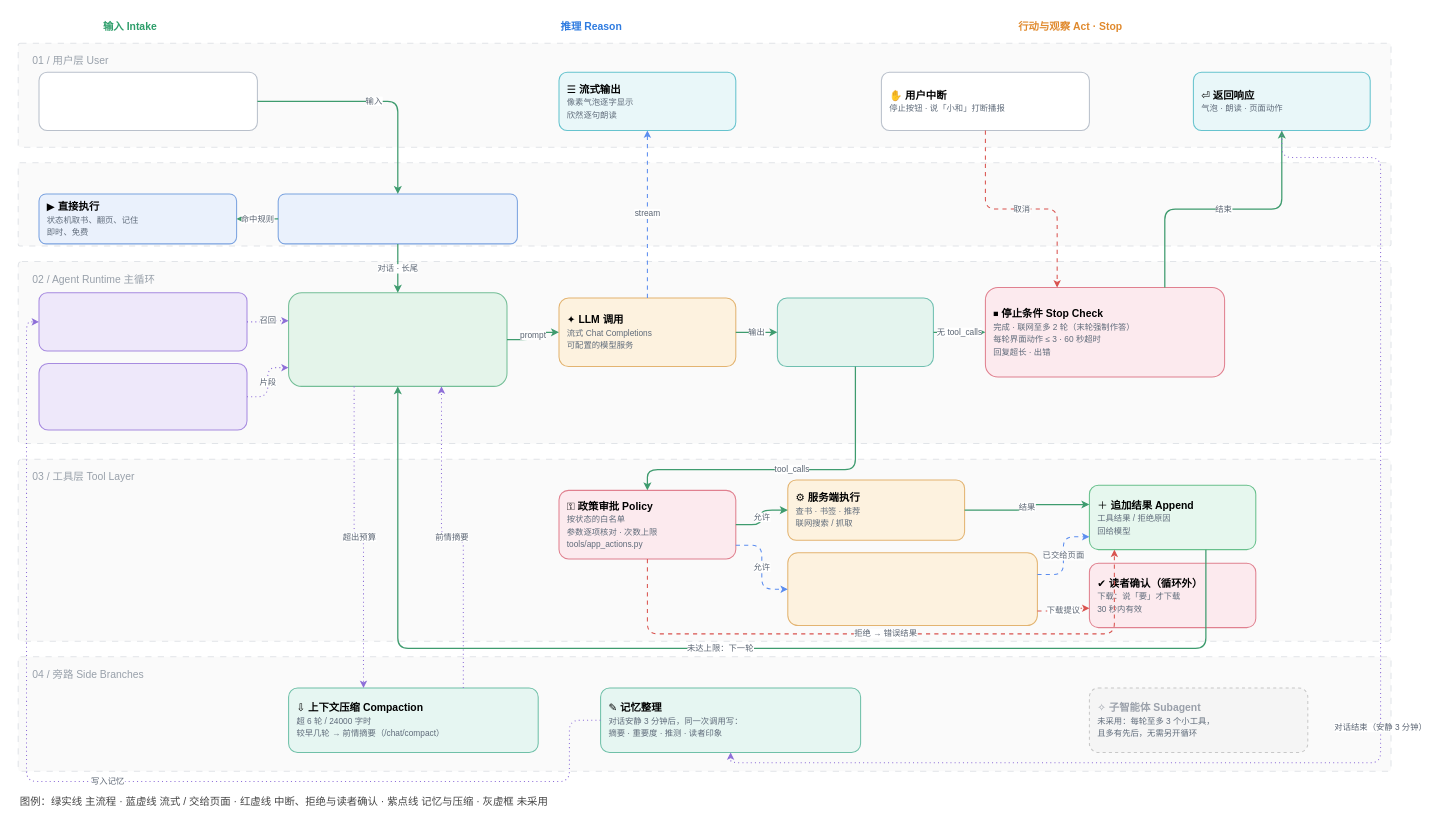
This 1445x828 diagram has some shape labels left out. Here are the shapes that lost their labels. From the top down, the box of each, then its label:
(38, 71, 257, 131): 💬 用户输入 语音：连续收听（VAD 断句 + 唤醒词） 文字：对话面板
(277, 193, 517, 244): ⚑ 本地分流 decide() 唤醒 · 找书 · 阅读指令 · 记住 · 选书
(17, 162, 1391, 246): 00 / 本地分流 Rules first（不调用模型）
(38, 292, 247, 351): {} 记忆召回 事实 · 推测 · 印象 · 摘要 按相关度取用，≤ 520 字
(288, 292, 507, 386): 构建上下文 Build Context 人格 system · 前情摘要 最近 3–6 轮原文 工具清单：按状态每轮重算 tools/llm_chat.py
(776, 297, 933, 367): ⇄ 输出判定 有没有 tool_calls?
(38, 362, 247, 430): ❡ 原文检索 · 眼前这一页 FTS5 + 句向量 RRF，防剧透 追问带上上一句；问「这段」附本页
(787, 552, 1037, 626): ⚙ 页面执行（动作事件） 天空 · 取书 · 翻章 · 音乐 · 定位 · 字号 页面再核对；取书后的翻章等书到手
